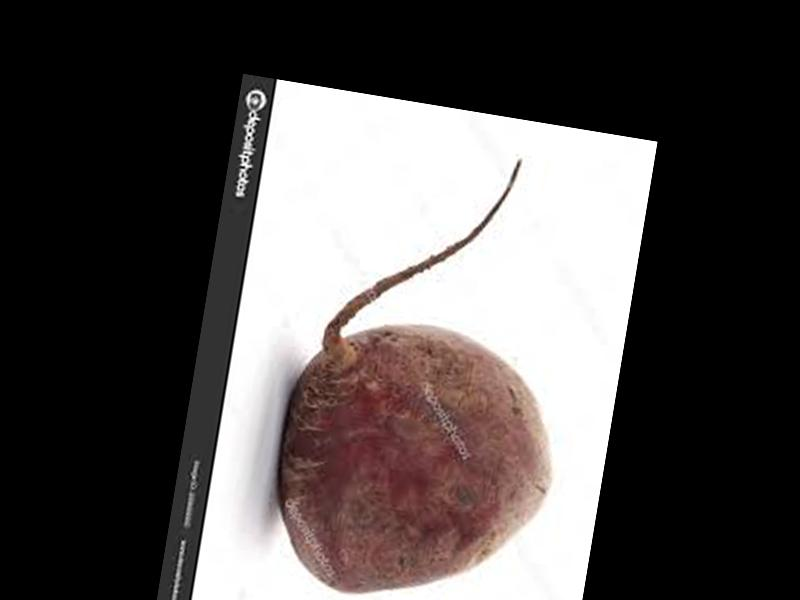Beet: (259, 130, 597, 600)
